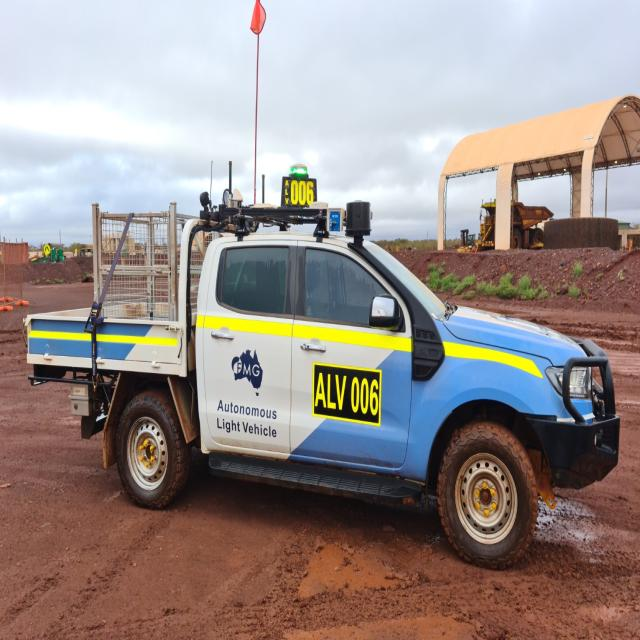light_vehicle: (23, 163, 619, 599)
